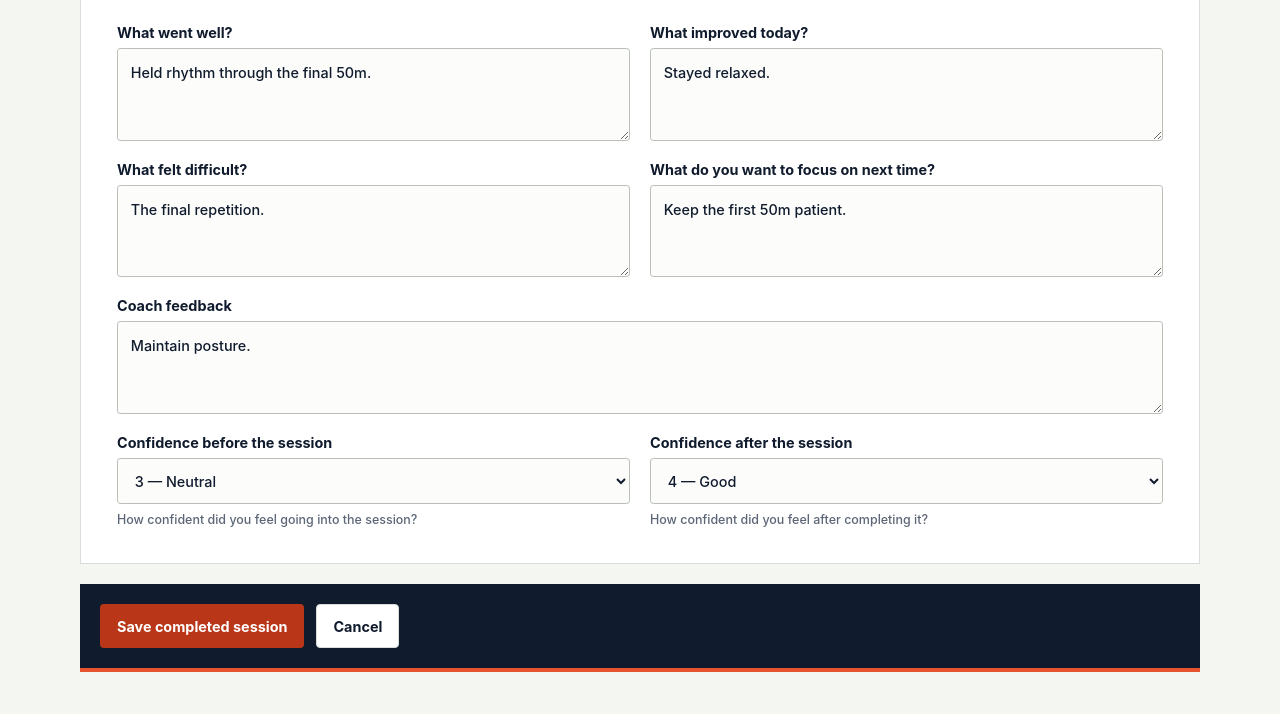
Test: session completion and reflection › shows multiple newly unlocked achievements
The image size is (1280, 714).
(page scrolled)
Step 1. Click the button "Save completed session" → [202, 626], box [100,604,304,648]
(page scrolled)
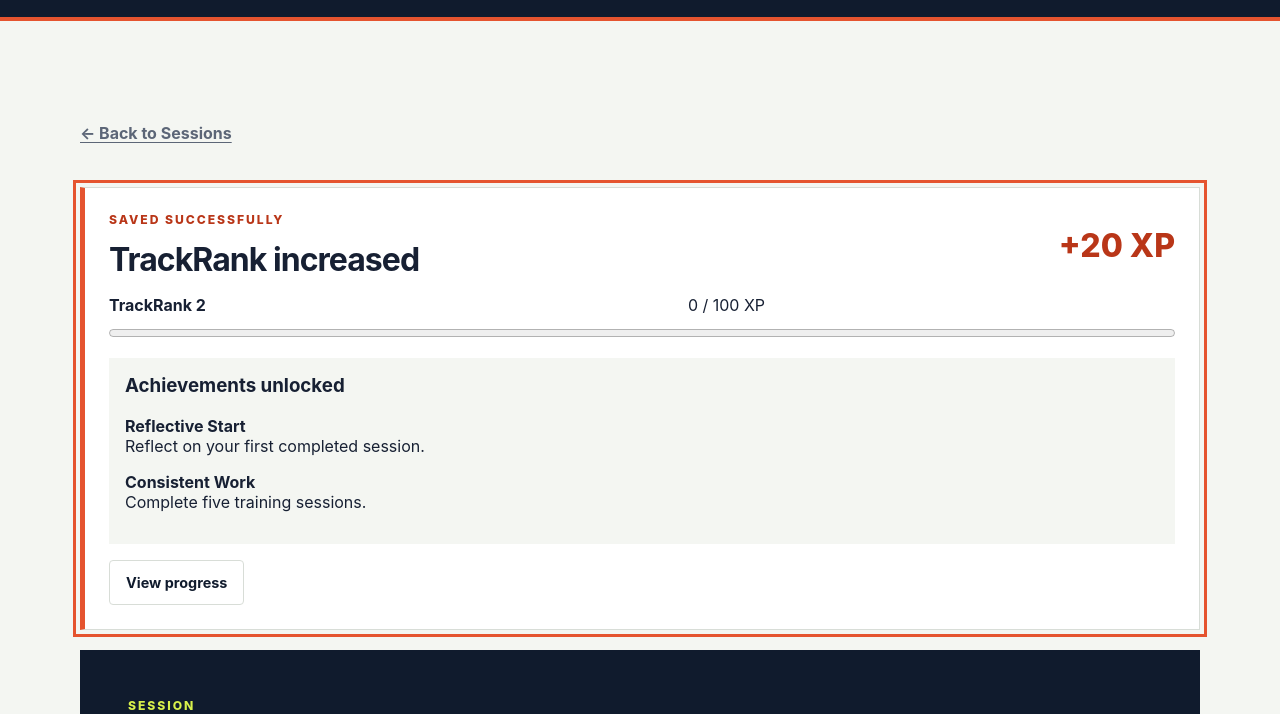
Check: the heading "Achievements unlocked" is shown, box [125,374,345,397]
Check: the text "Reflective Start" is shown, box [125,416,246,436]
Check: the text "Consistent Work" is shown, box [125,472,255,492]
